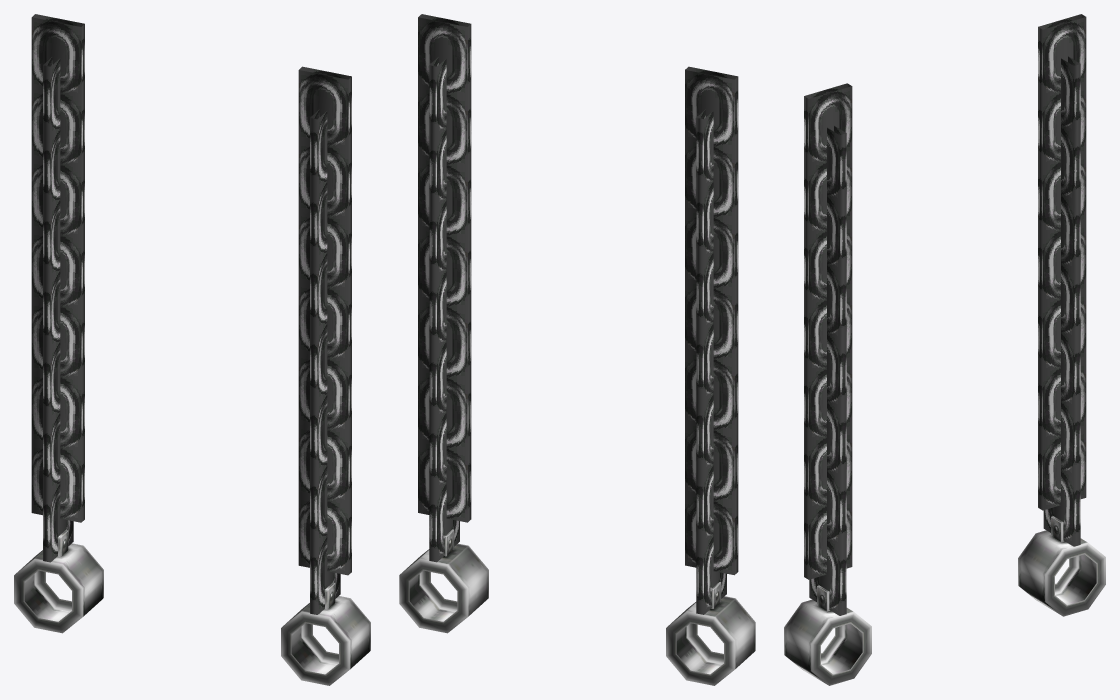
File: SWORDLIGHT20_INST_CHAINCUFFS_LOD1_02.fbx
3 renders of one model, left to right at view 1: azimuth 30°, elevation 25°; view 2: azimuth 210°, elevation 25°; view 3: azimuth 270°, elevation 25°, orthographic. The views are drawn at different scales.
Parts seen in each view (by area): view 1: SWORDLIGHT20_INST_CHAINCUFFS_LOD1_02; view 2: SWORDLIGHT20_INST_CHAINCUFFS_LOD1_02; view 3: SWORDLIGHT20_INST_CHAINCUFFS_LOD1_02.
Boxes of the visible parts, x1=… form: SWORDLIGHT20_INST_CHAINCUFFS_LOD1_02: x1=14, y1=14, x2=370, y2=685; SWORDLIGHT20_INST_CHAINCUFFS_LOD1_02: x1=399, y1=14, x2=755, y2=685; SWORDLIGHT20_INST_CHAINCUFFS_LOD1_02: x1=784, y1=14, x2=1105, y2=685.
Size of the model in its own units: 4630 by 12114 by 6069.
Materials: 2 (2 with a texture image).
